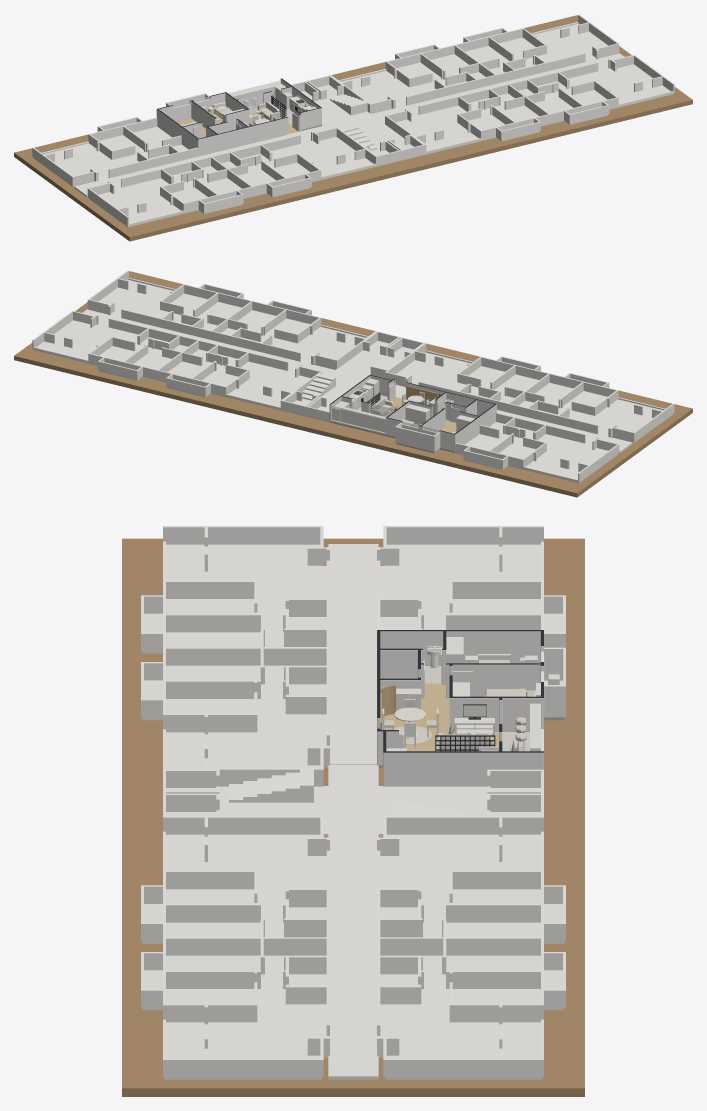
File: maquete.glb
The picture shows the model from 3 angles, top to bottom: view 1: azimuth 30°, elevation 25°; view 2: azimuth 150°, elevation 25°; view 3: azimuth 270°, elevation 25°; orthographic projection. The views are drawn at different scales.
Visible parts, largest first — view 1: Paredes vizinhas, Laje do pavimento, Base, Paredes, Balcão da varanda; view 2: Paredes vizinhas, Laje do pavimento, Base, Paredes, Vidro_4, Balcão da varanda, Guarda-roupa.001; view 3: Laje do pavimento, Paredes vizinhas, Base, Paredes, Piso_corredor.
Boxes of the visible parts, x1,y1,x2,y2 form: Paredes vizinhas: (32, 14, 674, 225); Laje do pavimento: (33, 24, 673, 227); Base: (14, 15, 692, 241); Paredes: (156, 78, 321, 156); Balcão da varanda: (230, 84, 275, 106); Paredes vizinhas: (32, 270, 674, 481); Laje do pavimento: (33, 280, 673, 483); Base: (14, 271, 692, 497); Paredes: (329, 375, 496, 451); Vidro_4: (331, 405, 385, 432); Balcão da varanda: (340, 407, 385, 432); Guarda-roupa.001: (405, 404, 430, 424); Laje do pavimento: (142, 544, 564, 1079); Paredes vizinhas: (141, 526, 565, 1076); Base: (122, 538, 584, 1096); Paredes: (377, 630, 565, 786); Piso_corredor: (330, 734, 376, 764).
Bounding box in the file's own units: 41.3 × 1.62 × 14.7.
